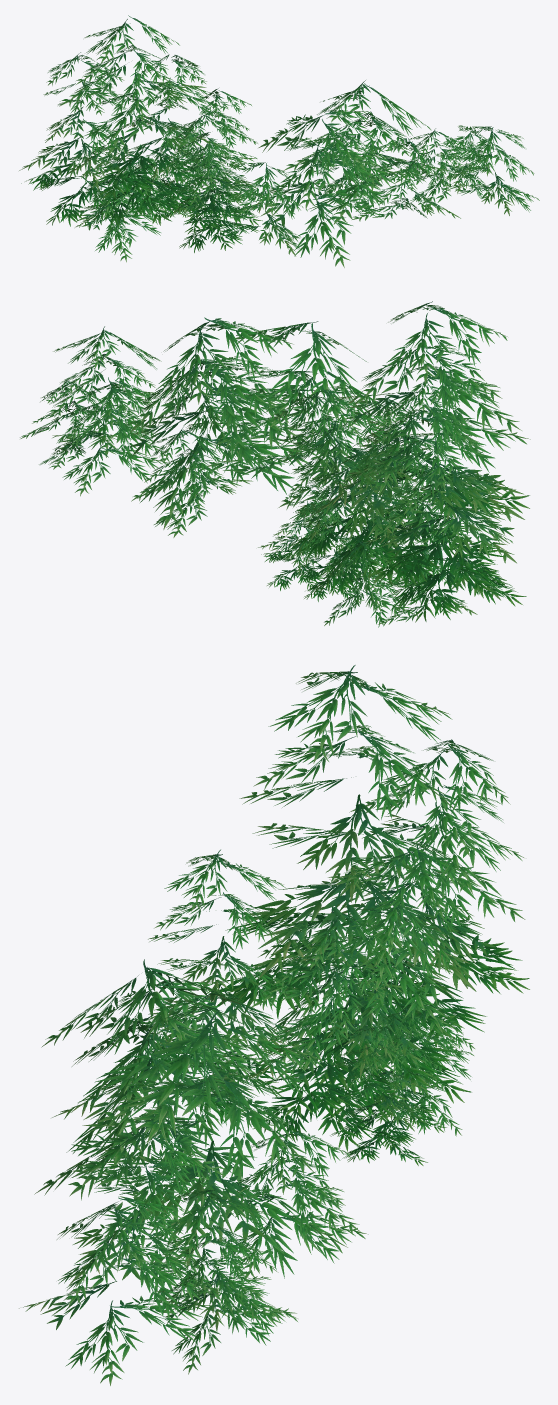
File: Area_13_16.fbx
3 renders of one model, top to bottom at view 1: azimuth 30°, elevation 25°; view 2: azimuth 150°, elevation 25°; view 3: azimuth 270°, elevation 25°, orthographic. The views are drawn at different scales.
Visible parts, largest first — view 1: Area_13_16; view 2: Area_13_16; view 3: Area_13_16.
Boxes of the visible parts, x1=… form: Area_13_16: x1=19, y1=15, x2=539, y2=267; Area_13_16: x1=20, y1=301, x2=530, y2=627; Area_13_16: x1=19, y1=665, x2=529, y2=1385.
Size of the model in its own units: 4125 by 2093 by 2346.
